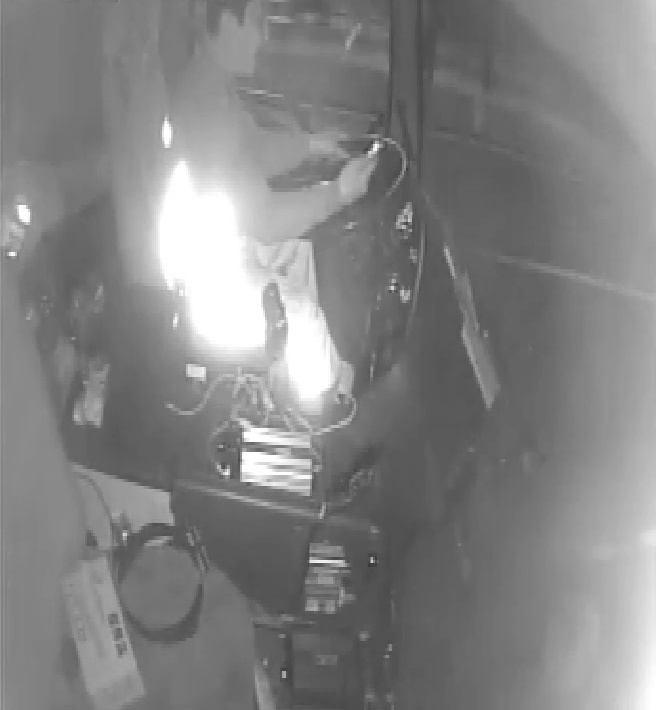cellphone: (346, 136, 385, 172)
